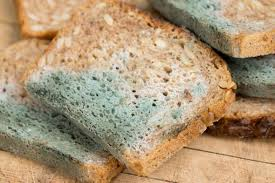mold_bread: (1, 77, 154, 179), (161, 1, 242, 44), (229, 55, 275, 93), (111, 49, 131, 71), (164, 103, 184, 122), (190, 80, 208, 97)
